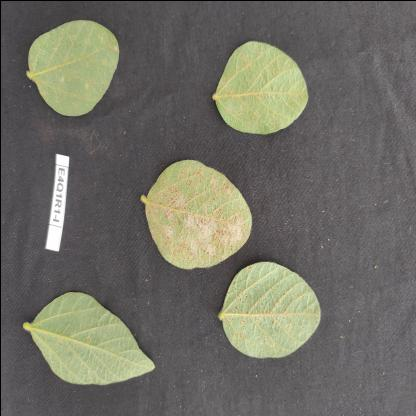label: (44, 150, 70, 254)
leaflets: (2, 288, 164, 398), (128, 149, 257, 267), (13, 16, 128, 120), (206, 29, 311, 140), (217, 260, 331, 362)
